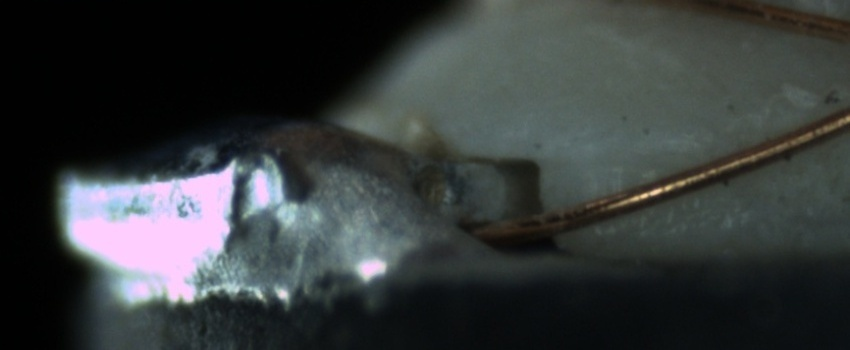DL: (568, 126, 715, 190)
